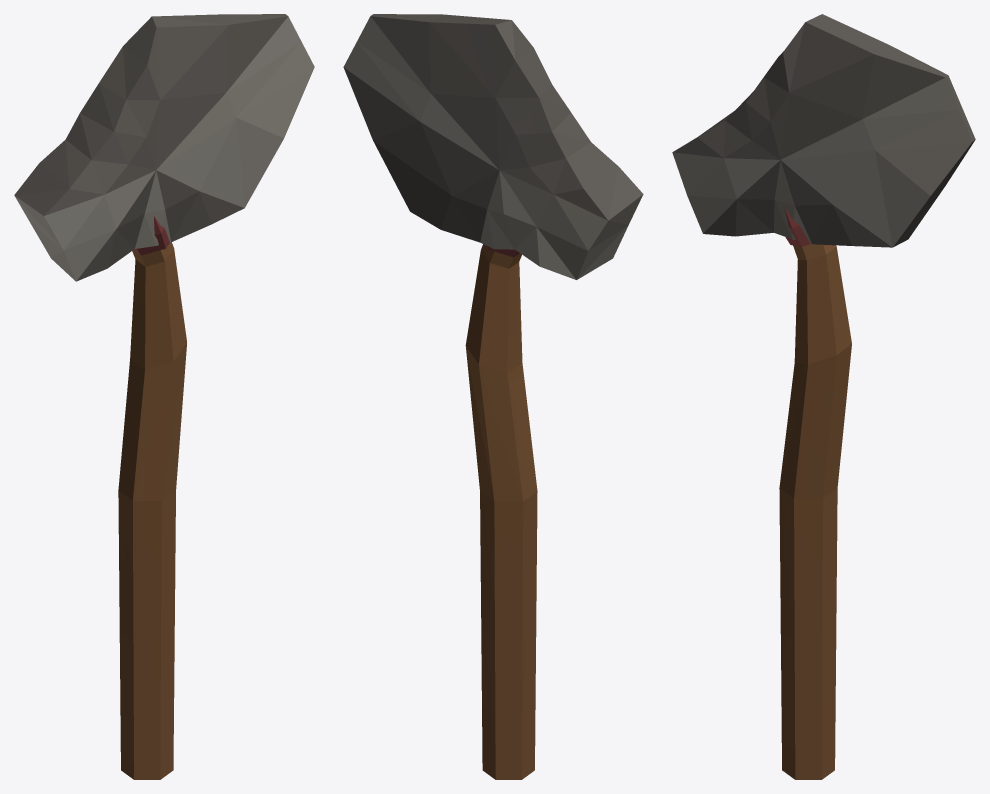
The model's file is wpn_axe_01_len12.fbx.
The picture shows the model from 3 angles, left to right: view 1: azimuth 30°, elevation 25°; view 2: azimuth 150°, elevation 25°; view 3: azimuth 330°, elevation 25°; orthographic projection.
Parts seen in each view (by area): view 1: wpn_axe_01; view 2: wpn_axe_01; view 3: wpn_axe_01.
Boxes of the visible parts, x1,y1,x2,y2 form: wpn_axe_01: (14, 14, 314, 779); wpn_axe_01: (343, 14, 643, 779); wpn_axe_01: (672, 14, 975, 779).
Bounding box in the file's own units: 0.4252 × 0.1039 × 1.07.
1 material, 1 textured.
